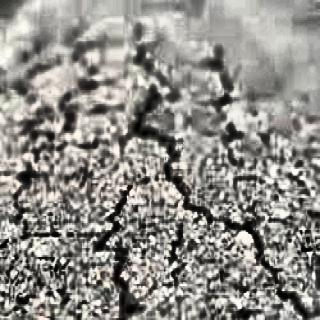alligator-crack: (132, 24, 172, 136), (167, 170, 232, 226), (34, 213, 92, 264), (232, 209, 274, 273), (79, 208, 120, 270), (218, 106, 254, 174), (104, 184, 137, 254), (109, 268, 155, 318), (270, 276, 317, 320), (160, 229, 200, 274), (10, 166, 39, 228), (210, 31, 233, 102), (157, 140, 196, 172), (4, 230, 38, 256), (157, 123, 187, 152), (136, 166, 164, 193), (157, 274, 186, 298)
